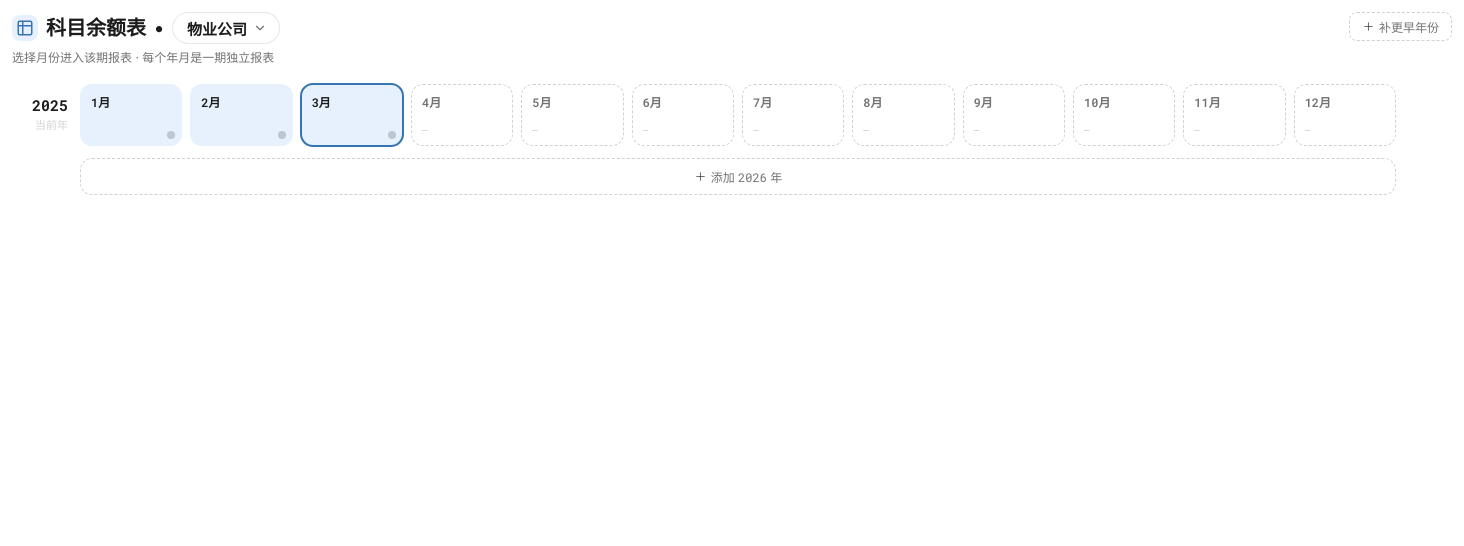
科目余额表 · S 档行→卡片 › ❗编辑态即使在 S 档也仍是表(§11.2:手机录入不禁止、不隐藏 —— 卡片上没有输入格)
Click the button with class "bmm-card" showing "1月": click(131, 115) [80,84,182,146]
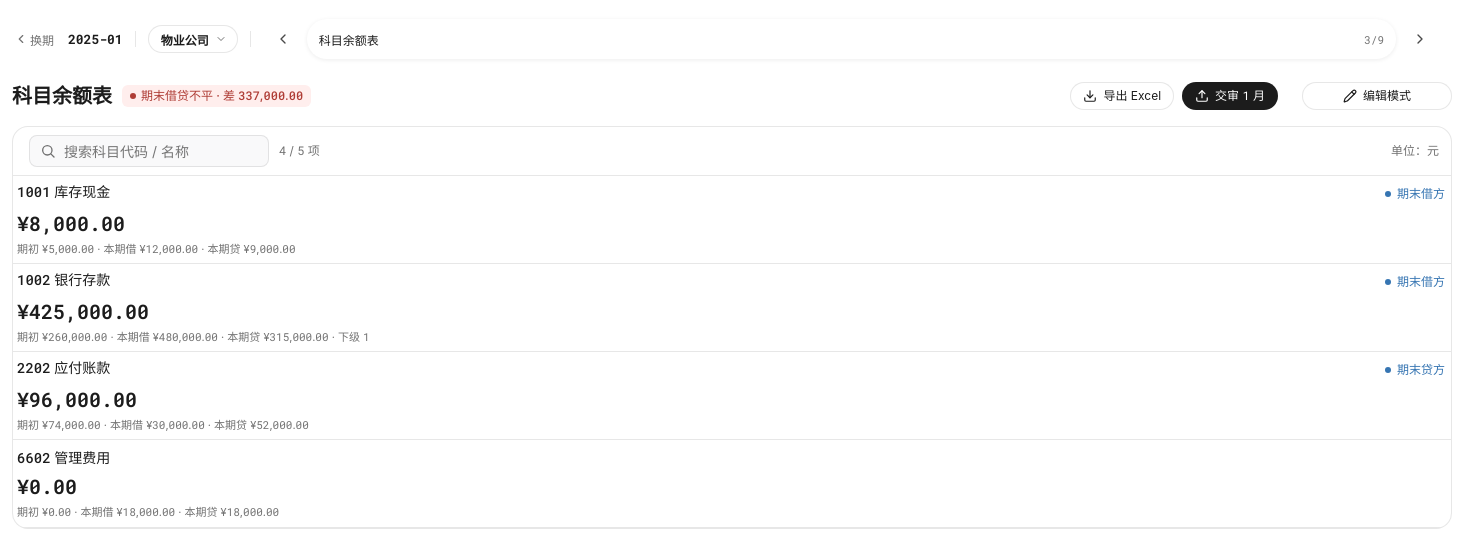
Click the button with class "fp-emb": click(1377, 96) [1302,82,1452,110]
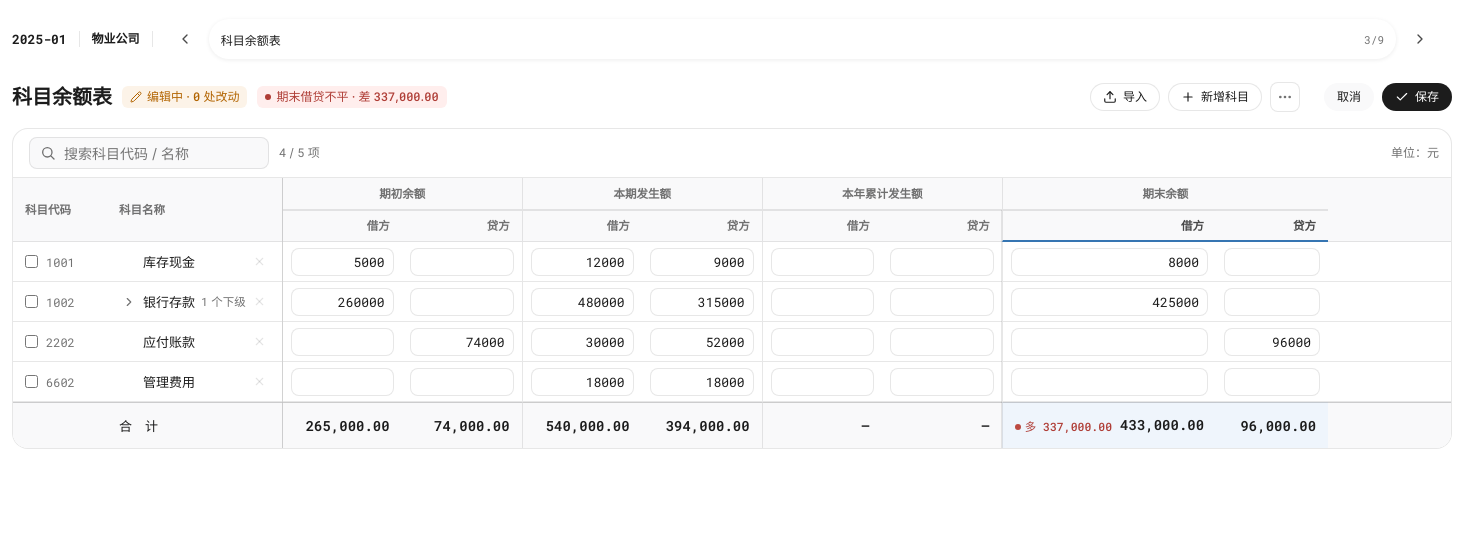
Now the table with class "tb-table" is shown, box [13,178,1451,448]
Now no elements with class "fpwc-c" are shown
Now the 1st number field with class "fin-ni" is shown, box [291,248,394,276]
